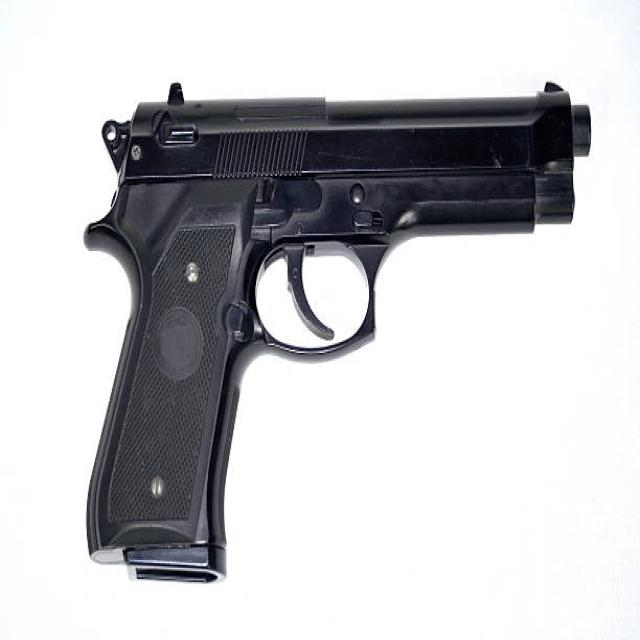pistol: (74, 69, 597, 595)
